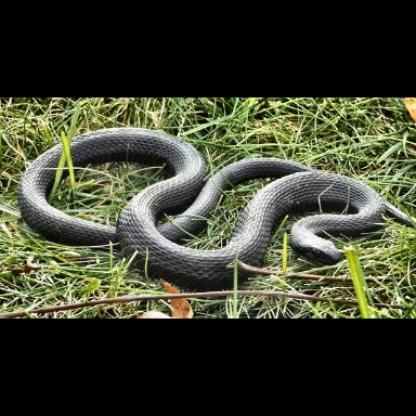Snake: (18, 127, 411, 286)
